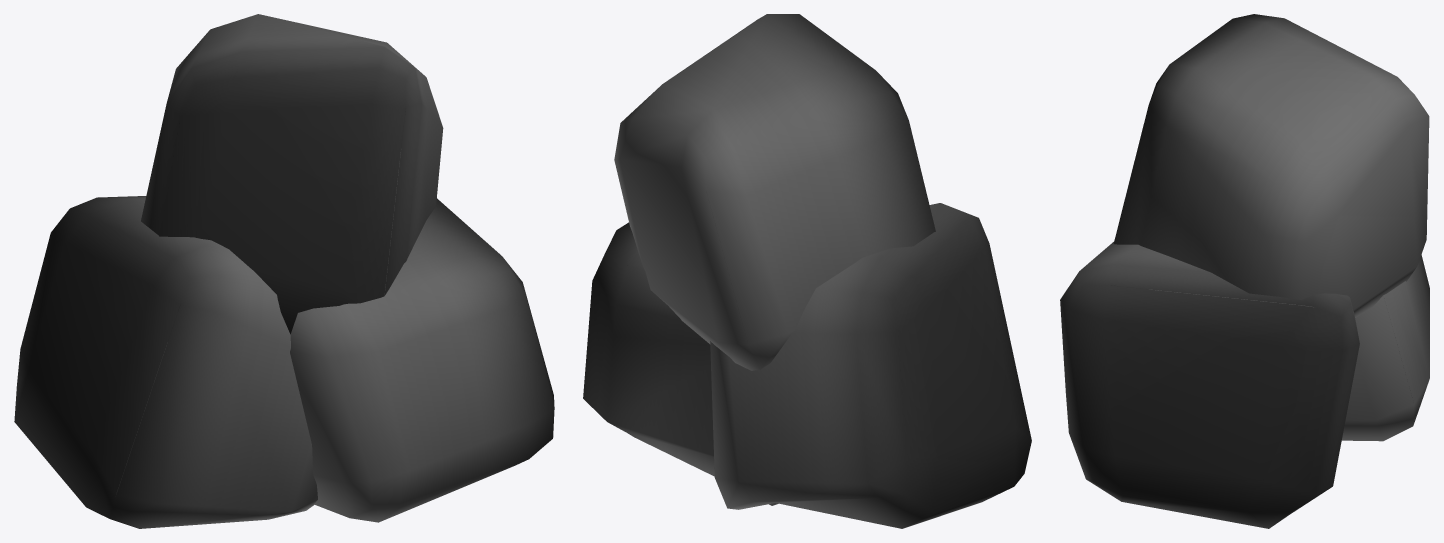
Rendered from Rock.fbx.
The picture shows the model from 3 angles, left to right: view 1: azimuth 30°, elevation 25°; view 2: azimuth 150°, elevation 25°; view 3: azimuth 270°, elevation 25°; orthographic projection. The views are drawn at different scales.
Parts seen in each view (by area): view 1: Cube, Cube.002, Cube.001; view 2: Cube.002, Cube, Cube.001; view 3: Cube.002, Cube.001, Cube.
Boxes of the visible parts, x1,y1,x2,y2 form: Cube: [14, 196, 317, 528]; Cube.002: [141, 14, 443, 334]; Cube.001: [290, 198, 554, 522]; Cube.002: [614, 14, 935, 370]; Cube: [710, 203, 1031, 528]; Cube.001: [583, 222, 778, 505]; Cube.002: [1113, 14, 1429, 317]; Cube.001: [1060, 242, 1359, 528]; Cube: [1341, 255, 1429, 441].
Bounding box in the file's own units: 412 × 446 × 340.
